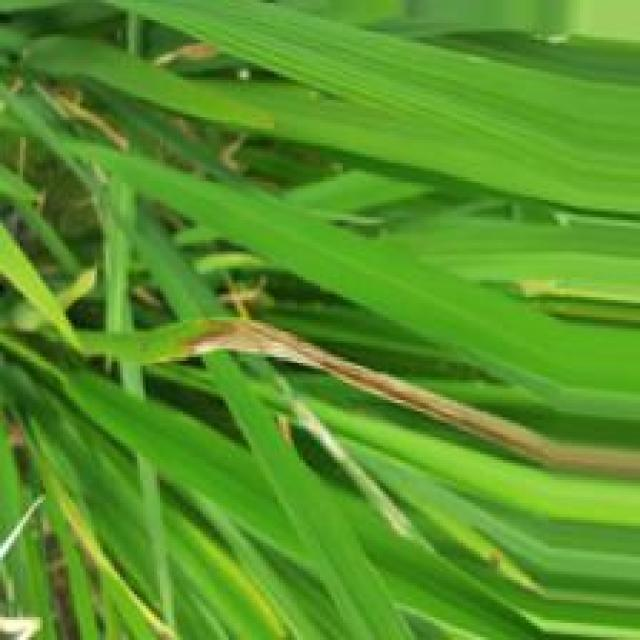Leaf_Scald: (176, 320, 546, 469)
